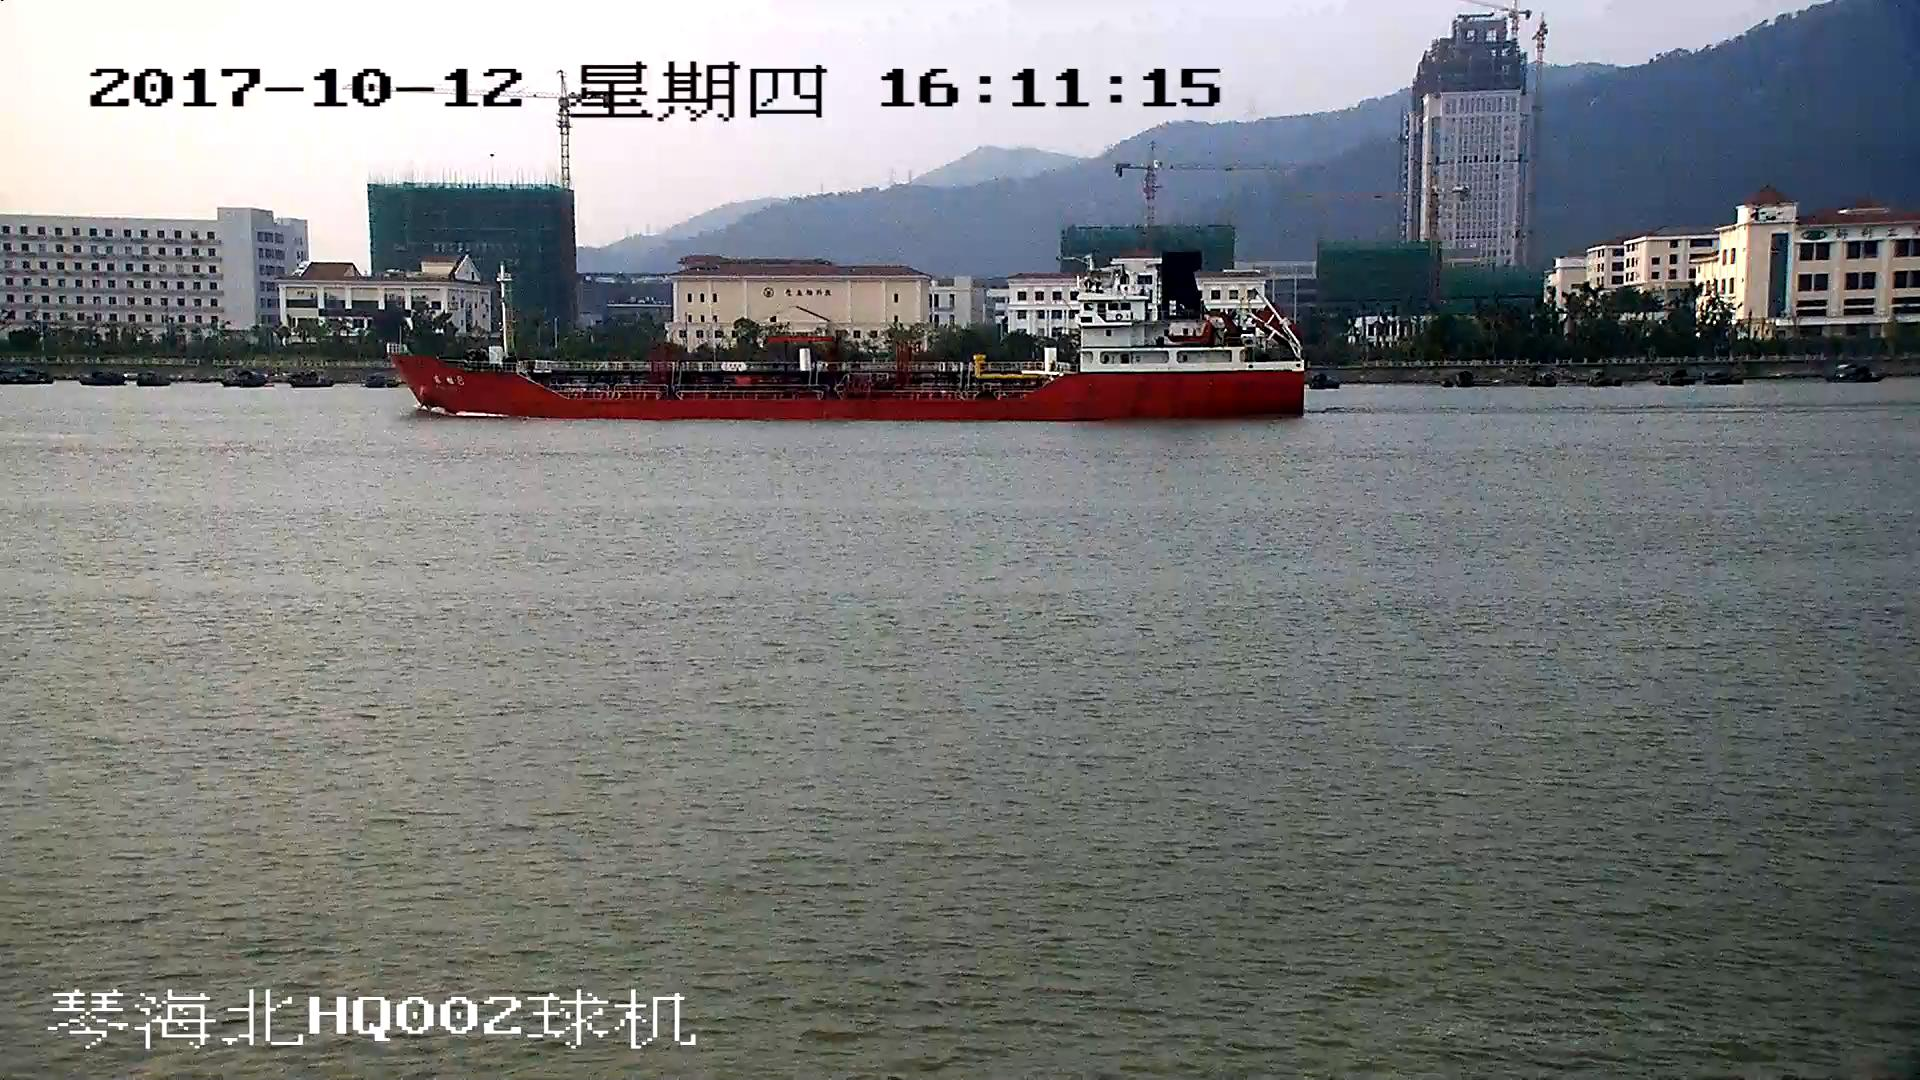general cargo ship: (384, 262, 1310, 423)
